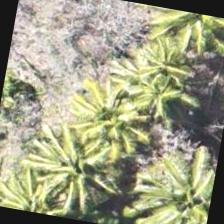Kelapa_Sawit: (70, 75, 174, 179), (17, 121, 122, 223), (134, 4, 223, 82), (147, 156, 217, 223)
